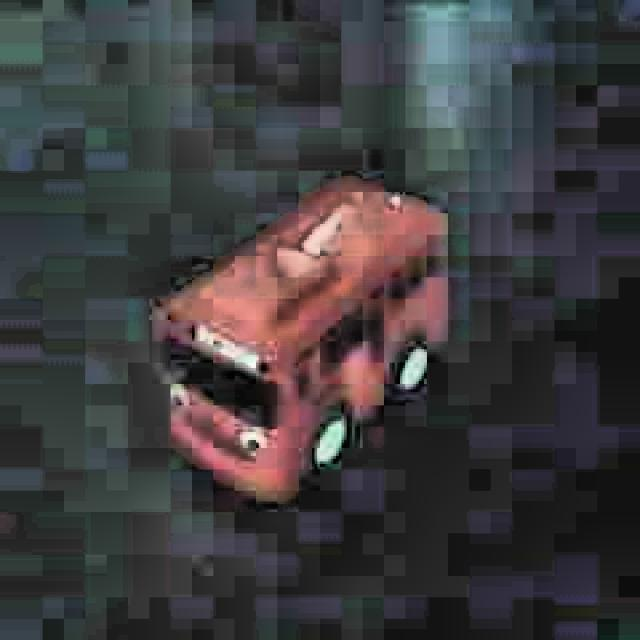bus: (140, 157, 462, 525)
